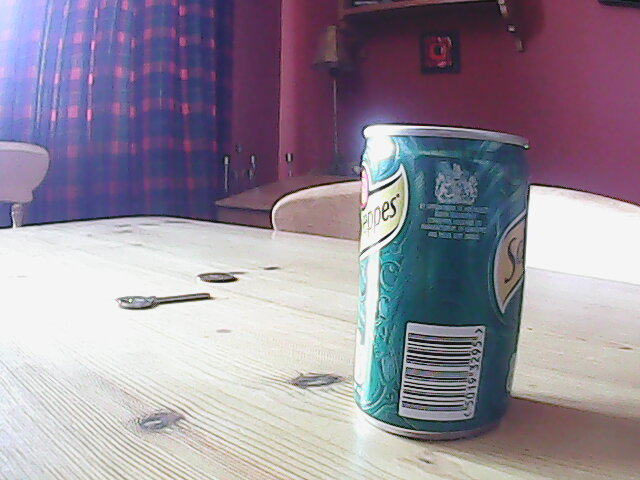Can: (348, 120, 531, 445)
Coin: (199, 270, 236, 287)
Key: (113, 292, 215, 312)
